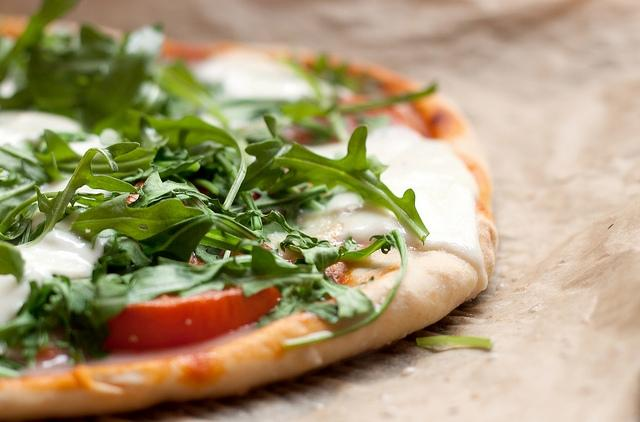tomato: (101, 284, 282, 354), (280, 116, 340, 146), (35, 325, 72, 361)
